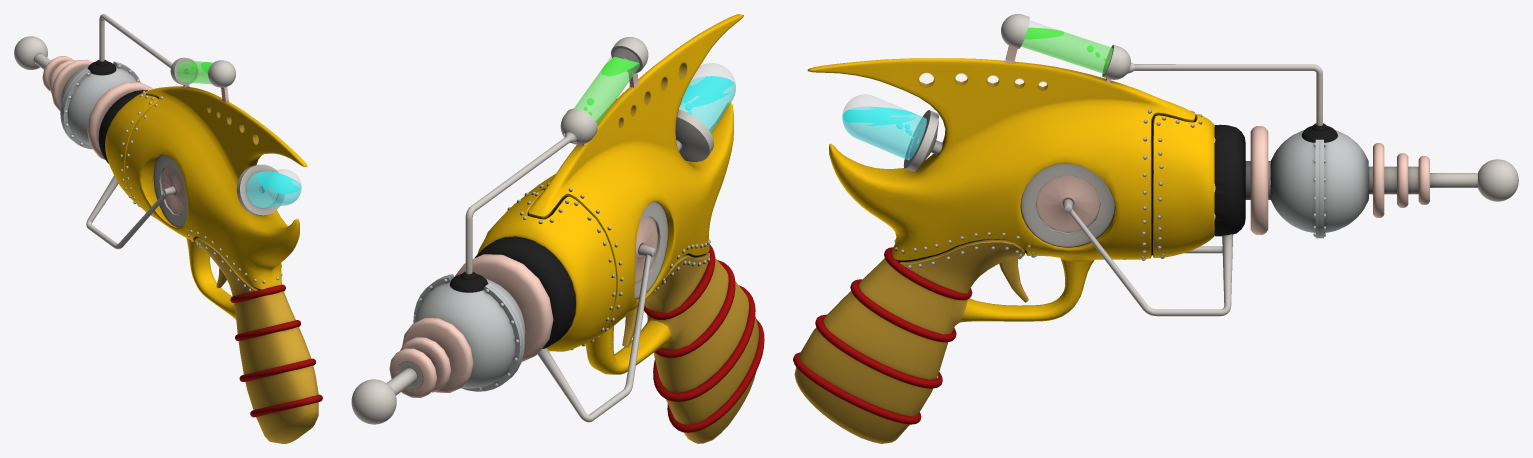
The picture shows the model from 3 angles, left to right: view 1: azimuth 30°, elevation 25°; view 2: azimuth 150°, elevation 25°; view 3: azimuth 270°, elevation 25°; orthographic projection. The views are drawn at different scales.
Visible parts, largest first — view 1: Body_low, PAcc_low_LP_MPG_0, BarrelRings_low_LP_MPG_0, HandleRings_low, MainCyl_low (×2), CoolantGlass_low, Coolant_low, CoolantMount_low, PlasmaCapsule_low, BottomWire_low, BarrelSphere_low, TopWire_low (+4 smaller); view 2: Body_low, BarrelRings_low_LP_MPG_0, PAcc_low_LP_MPG_0, HandleRings_low, BarrelAdapter_low, CoolantGlass_low, BottomWire_low, PlasmaGlass_low, MainCyl_low (×2), Coolant_low, Plasma_low, PlasmaCapsule_low (+5 smaller); view 3: Body_low, PAcc_low_LP_MPG_0, MainCyl_low (×2), HandleRings_low, BarrelRings_low_LP_MPG_0, CoolantGlass_low, BarrelAdapter_low, Coolant_low, BottomWire_low, PlasmaGlass_low, Plasma_low, Barrel_low (+5 smaller).
Boxes of the visible parts, x1,y1,x2,y2 form: Body_low: (105, 86, 318, 443); PAcc_low_LP_MPG_0: (60, 60, 140, 149); BarrelRings_low_LP_MPG_0: (42, 56, 152, 160); HandleRings_low: (230, 284, 322, 417); MainCyl_low (×2): (153, 154, 187, 227); CoolantGlass_low: (246, 169, 301, 207); Coolant_low: (246, 171, 301, 207); CoolantMount_low: (236, 164, 284, 215); PlasmaCapsule_low: (170, 57, 235, 87); BottomWire_low: (86, 176, 175, 249); BarrelSphere_low: (14, 36, 47, 69); TopWire_low: (99, 14, 172, 68); Body_low: (477, 14, 758, 443); BarrelRings_low_LP_MPG_0: (389, 254, 553, 398); PAcc_low_LP_MPG_0: (413, 271, 525, 391); HandleRings_low: (644, 244, 764, 432); BarrelAdapter_low: (475, 236, 575, 348); CoolantGlass_low: (679, 63, 735, 132); BottomWire_low: (538, 244, 655, 422); PlasmaGlass_low: (574, 48, 639, 124); MainCyl_low (×2): (634, 201, 668, 299); Coolant_low: (679, 76, 735, 132); Plasma_low: (574, 57, 639, 124); PlasmaCapsule_low: (560, 37, 648, 144); Body_low: (794, 58, 1214, 443); PAcc_low_LP_MPG_0: (1270, 123, 1368, 238); MainCyl_low (×2): (1020, 163, 1115, 247); HandleRings_low: (793, 247, 972, 424); BarrelRings_low_LP_MPG_0: (1250, 126, 1429, 234); CoolantGlass_low: (842, 94, 926, 160); BarrelAdapter_low: (1214, 124, 1245, 236); Coolant_low: (842, 106, 926, 159); BottomWire_low: (1063, 199, 1233, 316); PlasmaGlass_low: (1021, 21, 1112, 73); Plasma_low: (1021, 27, 1112, 73); Barrel_low: (1245, 161, 1477, 199).
Bounding box in the file's own units: 43.9 × 133 × 205.
3 materials, 3 textured.
